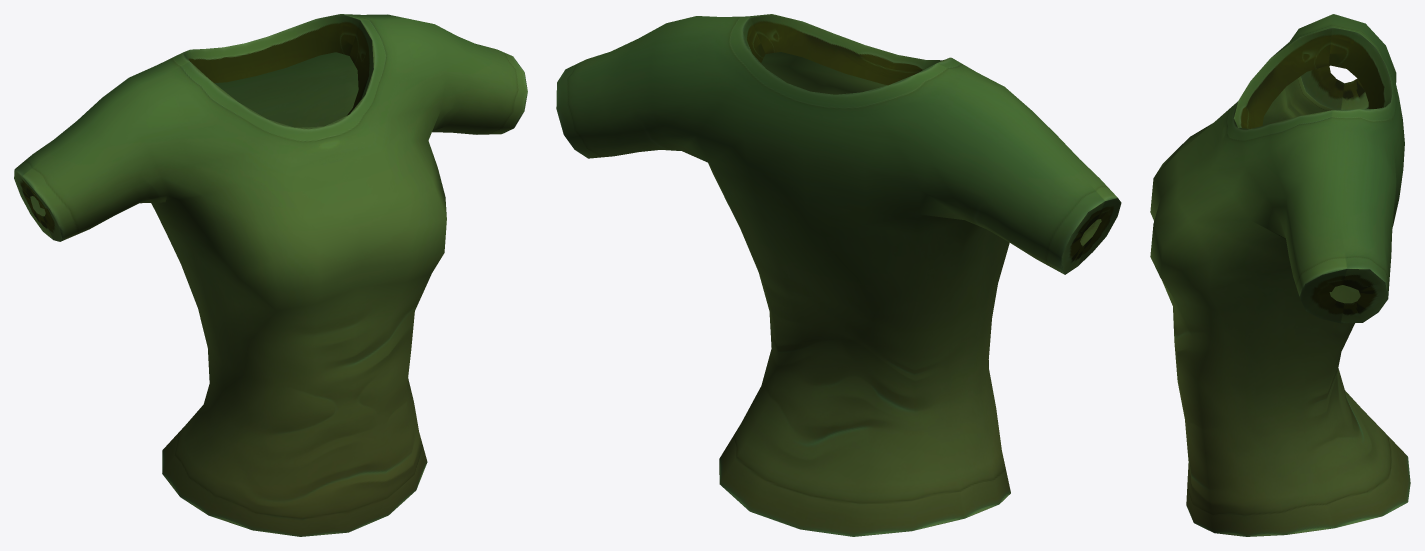
Rendered from T-shirt2.fbx.
The picture shows the model from 3 angles, left to right: view 1: azimuth 30°, elevation 25°; view 2: azimuth 150°, elevation 25°; view 3: azimuth 270°, elevation 25°; orthographic projection. The views are drawn at different scales.
Visible parts, largest first — view 1: T-shirt2; view 2: T-shirt2; view 3: T-shirt2.
Boxes of the visible parts, x1=… form: T-shirt2: x1=14, y1=14, x2=527, y2=536; T-shirt2: x1=556, y1=14, x2=1121, y2=536; T-shirt2: x1=1150, y1=14, x2=1410, y2=536.
Size of the model in its own units: 60.25 by 51.39 by 27.78.
